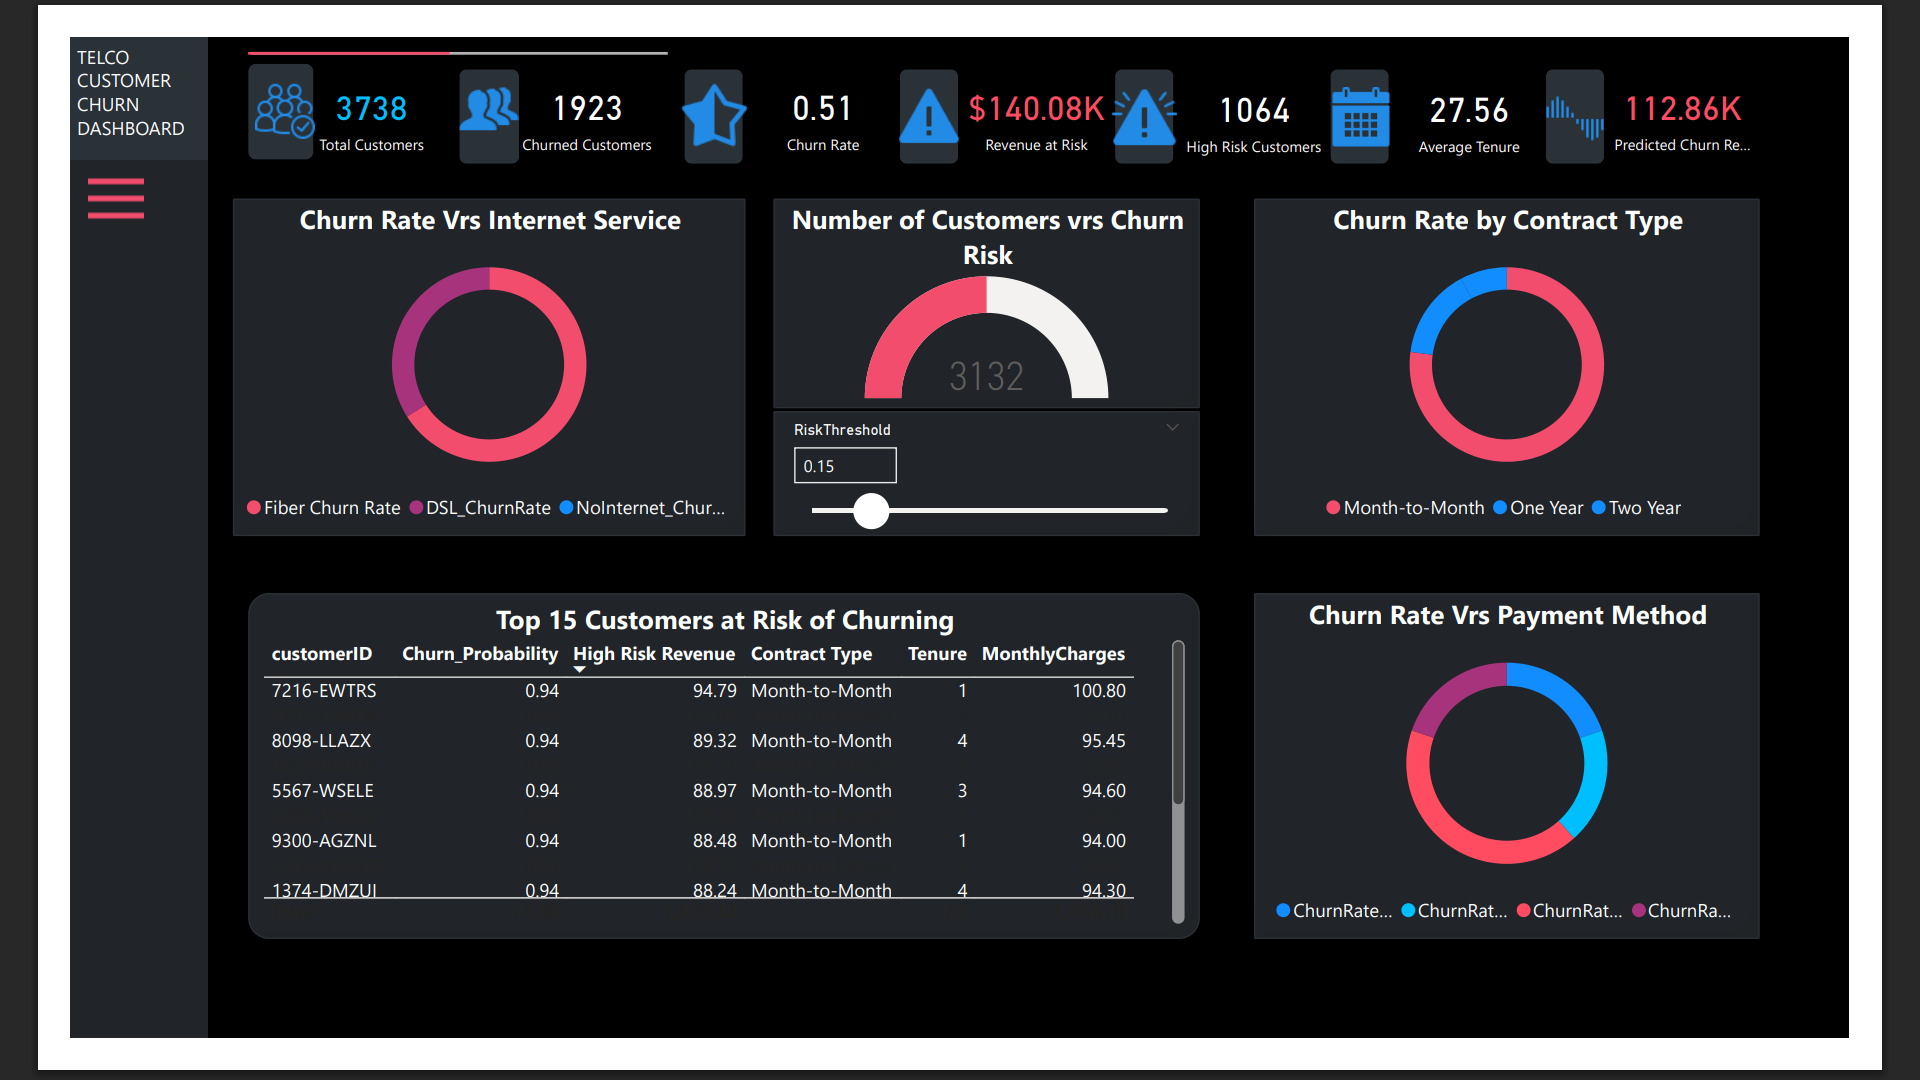

The dashboard page shown, as its layout file describes it:
{"tool":"powerbi","page":{"name":"Page 1","canvas":[1280,720],"ordinal":0},"visuals":[{"type":"shape","box":[0,0,98.8,720],"z":0},{"type":"donutChart","title":"Churn Rate Vrs Internet Service","fields":{"Y":["Measures (2).Fiber Churn Rate","Measures (2).DSL_ChurnRate","Measures (2).NoInternet_ChurnRate"]},"box":[130,398.8,412.5,293.8],"z":1000},{"type":"card","title":"Total Customers","fields":{"Values":["Measures (2).Total Customers"]},"box":[161.2,17.5,111.2,78.8],"z":2000},{"type":"card","title":"Churned Customers","fields":{"Values":["Measures (2).Churned Customers"]},"box":[316.2,17.5,111.2,78.8],"z":3000},{"type":"pieChart","title":"Churn Rate Vrs Payment Method","fields":{"Y":["Measures (2).ChurnRate_BankTransfer","Measures (2).ChurnRate_CreditCard","Measures (2).ChurnRate_ElectronicCheck","Measures (2).ChurnRate_MailedCheck"]},"box":[782.5,106.2,445,248.8],"z":4000},{"type":"card","title":"Churn Rate","fields":{"Values":["Measures (2).Churn Rate"]},"box":[486.2,17.5,111.2,78.8],"z":5000},{"type":"donutChart","title":"Churn Rate  by Contract Type","fields":{"Category":["churn_predictions.Contract Type"],"Y":["Measures (2).High Risk Customers slider"]},"box":[468.8,106.2,298.8,248.8],"z":6000},{"type":"card","title":"Revenue at Risk","fields":{"Values":["Measures (2).Revenue at Risk"]},"box":[640,17.5,111.2,78.8],"z":7000},{"type":"gauge","title":"Number of Customers vrs Churn Risk","fields":{"Y":["Measures (2).High Risk Customers slider"]},"box":[130,202.5,333.8,152.5],"z":8000},{"type":"tableEx","title":"TOP 15 CHURNERS","fields":{"Values":["churn_predictions.customerID","Sum(churn_predictions.Churn_Probability)","Measures (2).High Risk Revenue","churn_predictions.Contract Type","Sum(churn_predictions.tenure)","Sum(churn_predictions.MonthlyCharges)"]},"box":[563.8,398.8,663.8,293.8],"z":9000},{"type":"slicer","fields":{"Values":["RiskThreshold.RiskThreshold"]},"box":[130,106.2,333.8,87.5],"z":10000},{"type":"card","title":"Hish Risk Customers","fields":{"Values":["Measures (2).High Risk Customers"]},"box":[796.2,18.8,111.2,78.8],"z":11000},{"type":"card","title":"Average Tenure","fields":{"Values":["Measures (2).Average Tenure"]},"box":[951.2,18.8,111.2,78.8],"z":12000},{"type":"card","title":"Predicted Churn Revenue","fields":{"Values":["Measures (2).Predicted Churn Revenue"]},"box":[1105,17.5,111.2,78.8],"z":13000},{"type":"shape","box":[597.3,22.5,42,68.8],"z":14000},{"type":"shape","box":[752.3,22.5,42,68.8],"z":15000},{"type":"shape","box":[907.2,22.5,42,68.8],"z":16000},{"type":"shape","box":[1062.1,22.5,42,68.8],"z":17000},{"type":"shape","box":[280,22.5,42.5,68.8],"z":18000},{"type":"shape","box":[127.5,18.8,47.5,68.8],"z":19000},{"type":"shape","box":[442.4,22.5,42,68.8],"z":20000},{"type":"shape","box":[130,0,300,22.5],"z":21000},{"type":"shape","box":[127.5,2.5,145,17.5],"z":22000},{"type":"textbox","box":[0,0,98.8,87.5],"z":23000},{"type":"image","box":[127.5,17.5,53.8,67.5],"z":24000},{"type":"image","box":[268.8,22.5,63.8,55],"z":25000},{"type":"image","box":[431.2,26.2,63.8,62.5],"z":26000},{"type":"image","box":[591.2,30,53.8,53.8],"z":27000},{"type":"image","box":[741.2,28.8,63.8,56.2],"z":27001},{"type":"image","box":[901.2,31.2,55,53.8],"z":27002},{"type":"image","box":[1056.2,30,53.8,53.8],"z":27003},{"type":"image","box":[0,91.2,65,50],"z":27004}]}

Visuals, with their boxes in screenshot pixels (x1, y1, x2, y2), scaled from the page's 1280x720 canvas onto the 1920x1080 screenshot:
shape: <region>0, 0, 148, 1079</region>
"Churn Rate Vrs Internet Service" donutChart: <region>195, 598, 814, 1039</region>
"Total Customers" card: <region>242, 26, 409, 144</region>
"Churned Customers" card: <region>474, 26, 641, 144</region>
"Churn Rate Vrs Payment Method" pieChart: <region>1174, 159, 1841, 532</region>
"Churn Rate" card: <region>729, 26, 896, 144</region>
"Churn Rate  by Contract Type" donutChart: <region>703, 159, 1151, 532</region>
"Revenue at Risk" card: <region>960, 26, 1127, 144</region>
"Number of Customers vrs Churn Risk" gauge: <region>195, 304, 696, 532</region>
"TOP 15 CHURNERS" tableEx: <region>846, 598, 1841, 1039</region>
slicer - RiskThreshold.RiskThreshold: <region>195, 159, 696, 291</region>
"Hish Risk Customers" card: <region>1194, 28, 1361, 146</region>
"Average Tenure" card: <region>1427, 28, 1594, 146</region>
"Predicted Churn Revenue" card: <region>1658, 26, 1824, 144</region>
shape: <region>896, 34, 959, 137</region>
shape: <region>1128, 34, 1191, 137</region>
shape: <region>1361, 34, 1424, 137</region>
shape: <region>1593, 34, 1656, 137</region>
shape: <region>420, 34, 484, 137</region>
shape: <region>191, 28, 262, 131</region>
shape: <region>664, 34, 727, 137</region>
shape: <region>195, 0, 645, 34</region>
shape: <region>191, 4, 409, 30</region>
textbox: <region>0, 0, 148, 131</region>
image: <region>191, 26, 272, 128</region>
image: <region>403, 34, 499, 116</region>
image: <region>647, 39, 742, 133</region>
image: <region>887, 45, 968, 126</region>
image: <region>1112, 43, 1208, 128</region>
image: <region>1352, 47, 1434, 128</region>
image: <region>1584, 45, 1665, 126</region>
image: <region>0, 137, 98, 212</region>
